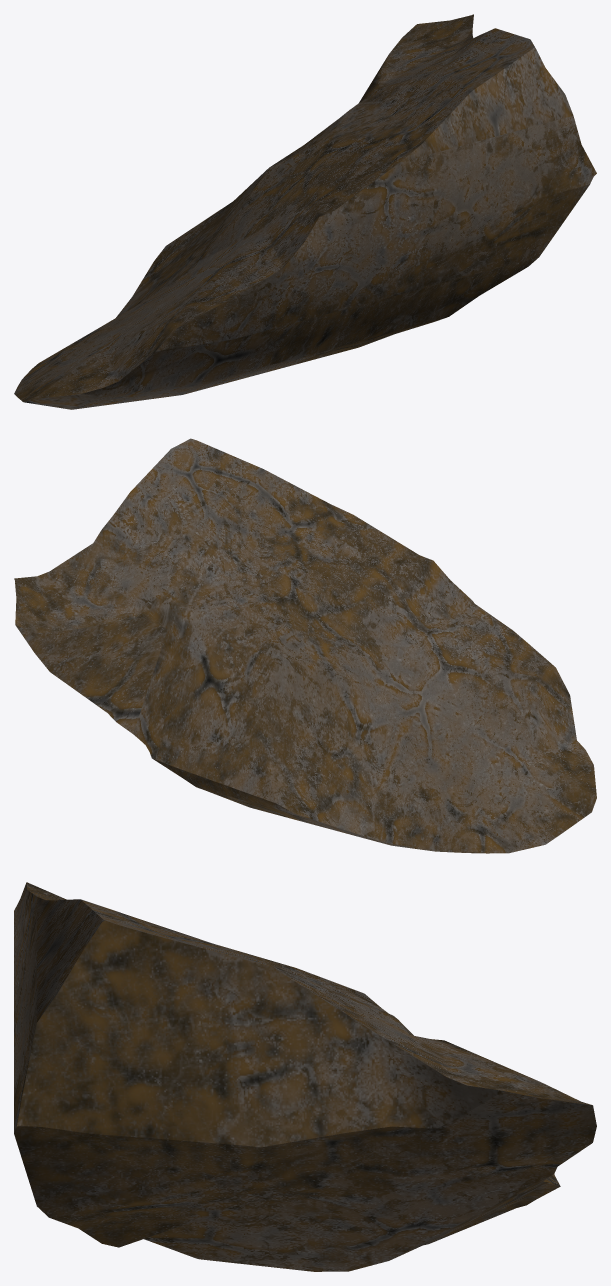
Rendered from RockShard9.fbx.
3 renders of one model, top to bottom at view 1: azimuth 30°, elevation 25°; view 2: azimuth 150°, elevation 25°; view 3: azimuth 270°, elevation 25°, orthographic. The views are drawn at different scales.
Visible parts, largest first — view 1: RockShard9; view 2: RockShard9; view 3: RockShard9.
Part boxes in pixels (<box>): RockShard9: <box>14,14,596,409</box>; RockShard9: <box>14,438,596,853</box>; RockShard9: <box>14,882,596,1271</box>.
Bounding box in the file's own units: 115 × 61.92 × 68.25.
